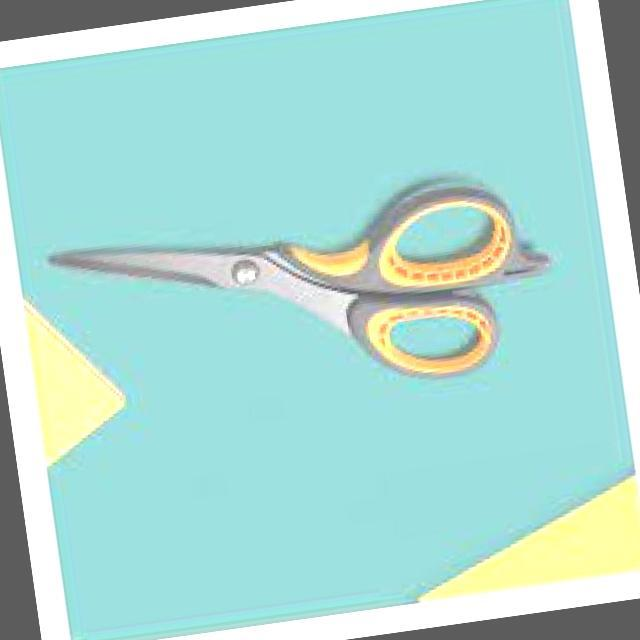Scissors: (28, 98, 575, 452)
